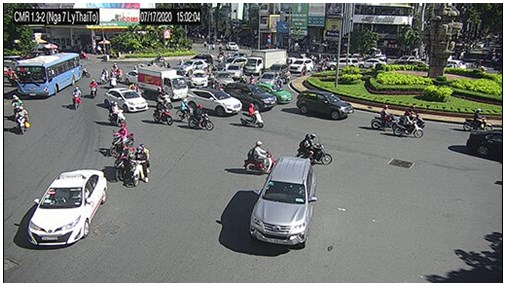xe_buyt: (17, 52, 82, 98)
xe_hoi: (27, 169, 108, 248), (251, 156, 318, 247), (295, 90, 353, 120), (185, 87, 242, 116), (226, 82, 276, 113), (106, 88, 148, 114), (258, 83, 293, 105), (327, 56, 358, 71), (290, 58, 314, 75), (180, 59, 208, 73), (359, 57, 386, 70), (213, 70, 233, 87), (223, 62, 244, 78), (260, 71, 281, 87), (191, 70, 208, 88), (122, 69, 139, 85), (225, 41, 238, 51)
xe_may: (243, 140, 278, 174), (297, 134, 331, 164), (108, 121, 137, 156), (131, 143, 154, 187), (391, 111, 423, 140), (112, 140, 133, 181), (186, 103, 214, 132), (370, 103, 395, 133), (463, 109, 493, 134), (106, 99, 129, 128), (240, 103, 264, 129), (14, 104, 32, 136), (153, 100, 173, 127), (11, 93, 27, 117), (72, 85, 81, 109), (100, 68, 109, 86), (109, 62, 118, 77), (89, 79, 96, 98), (250, 74, 256, 85)
xe_tai: (246, 49, 287, 73)
